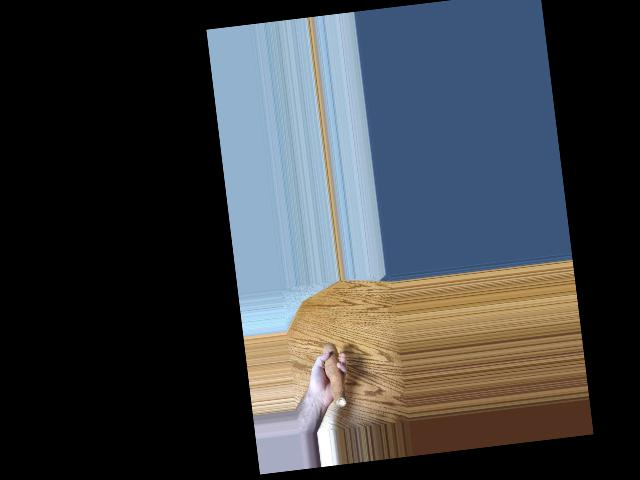sweet_potato: (324, 337, 349, 410)
